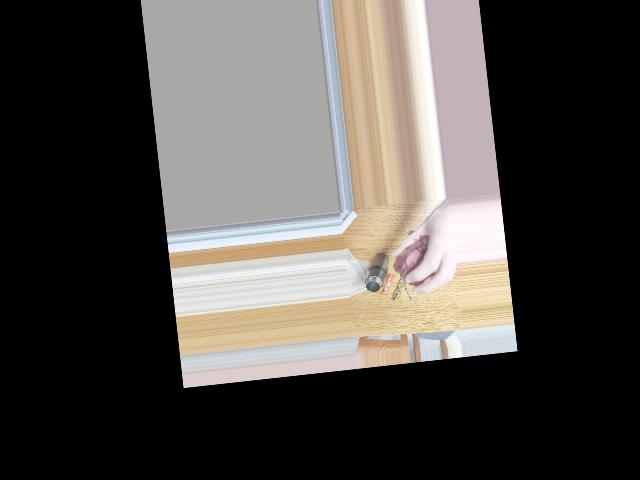onion: (393, 231, 435, 286)
